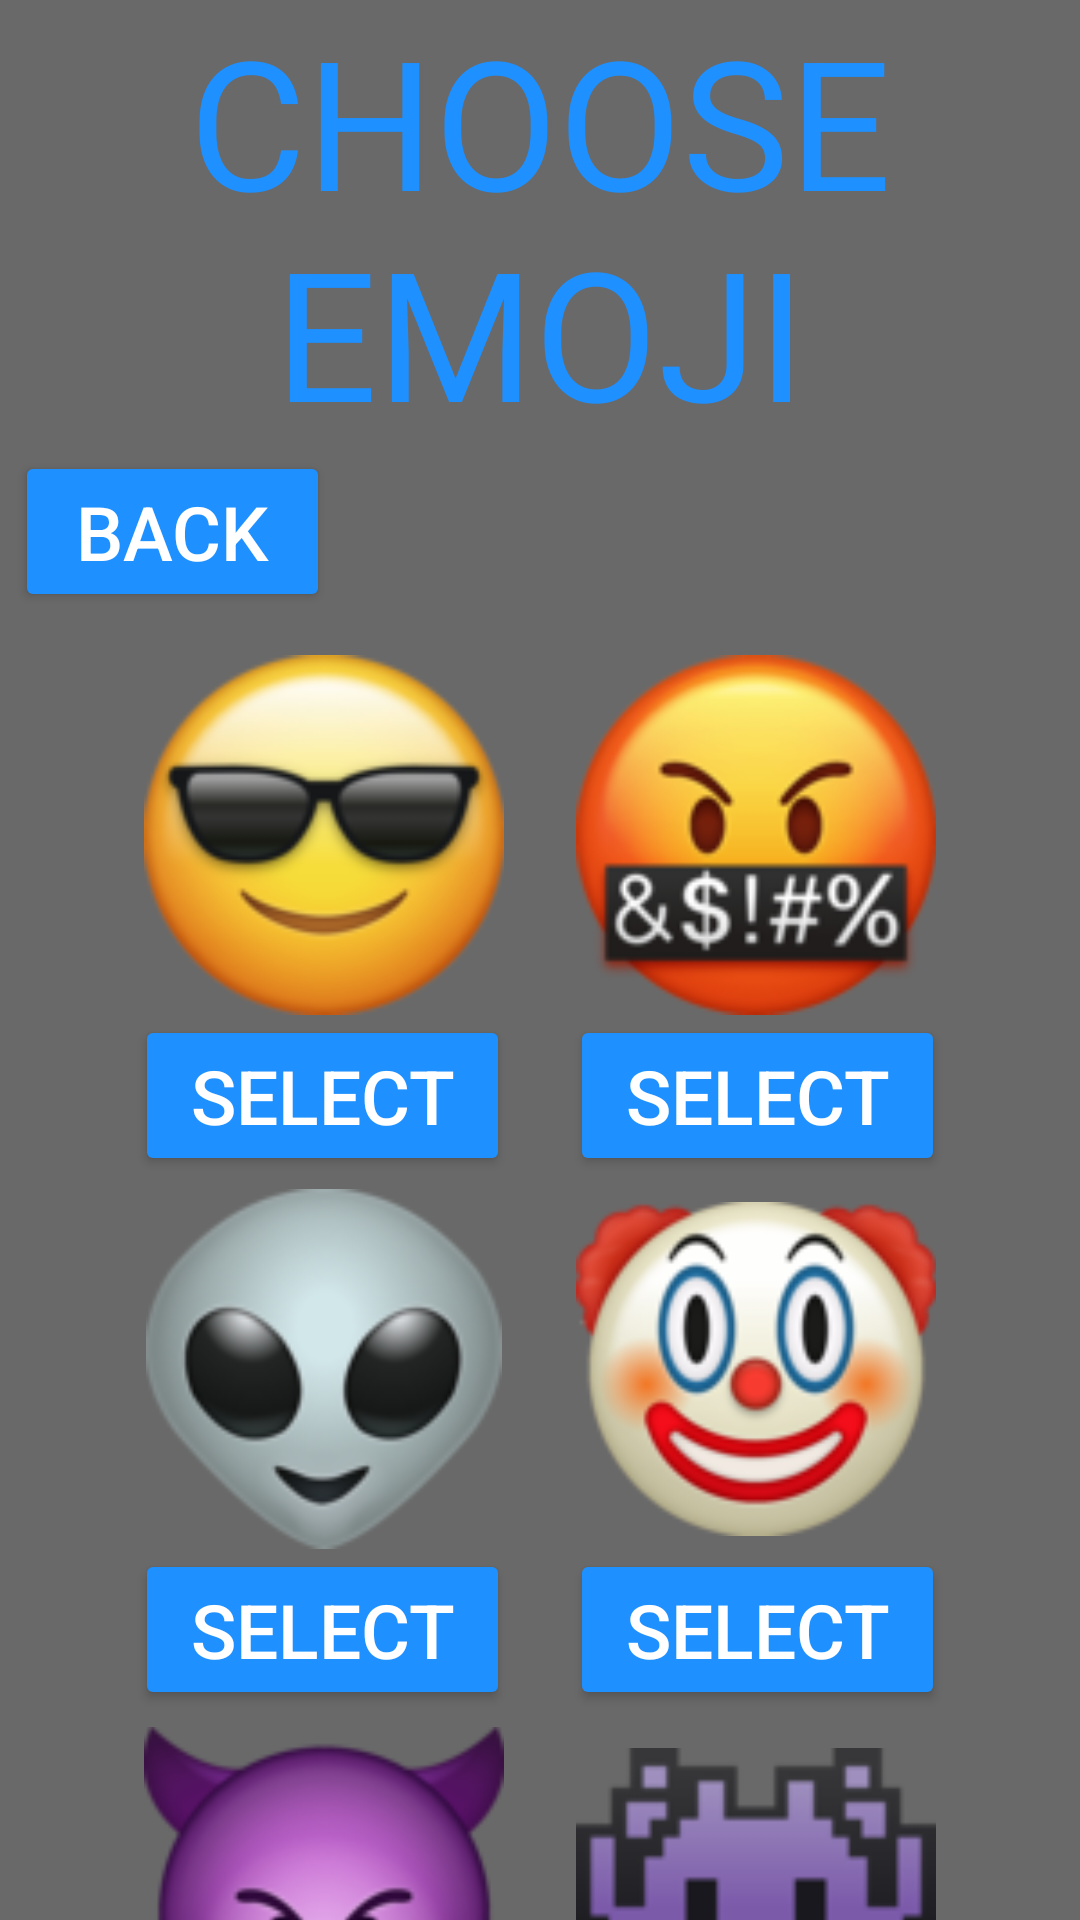

Locate icon controls on the screen. Image size 1080w x 1920h, boxes as bbox(x1, y1, x2, y2).
aliensmile: bbox(146, 1189, 502, 1549)
angrysmile: bbox(576, 655, 936, 1015)
clownsmile: bbox(576, 1202, 936, 1536)
smile: bbox(144, 655, 504, 1015)
